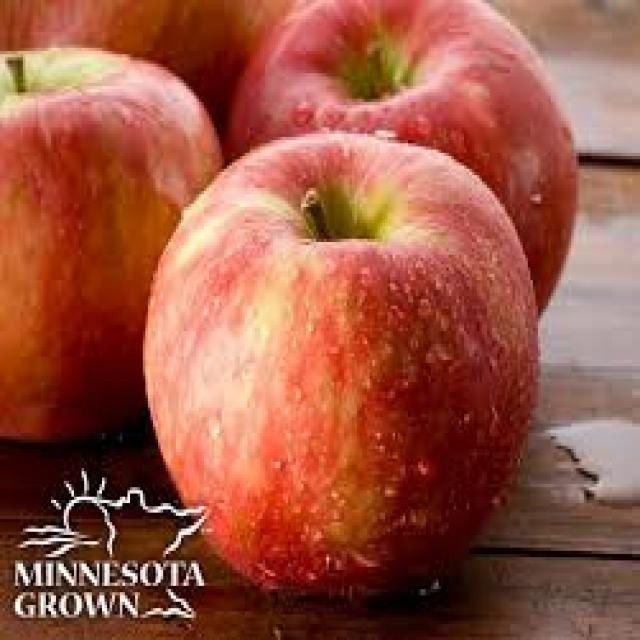apple: (147, 140, 553, 610), (0, 43, 149, 436), (227, 0, 581, 140)
